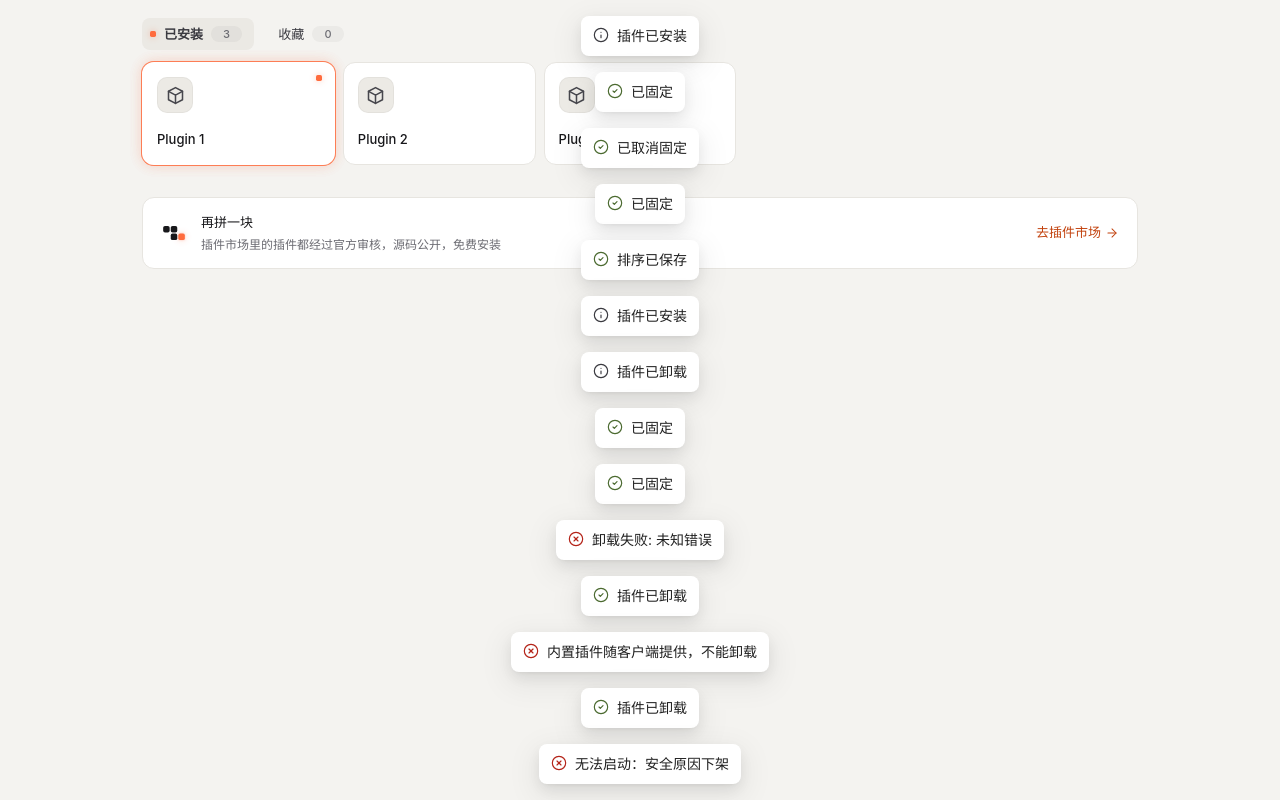
Test: MyPage Component › 工作台紧凑布局（常用磁贴 / 最近使用） › 右键磁贴弹出操作菜单，并提供「查看详情」
Right-click the button "Plugin 1" at (238, 113), box [142,62,335,165]
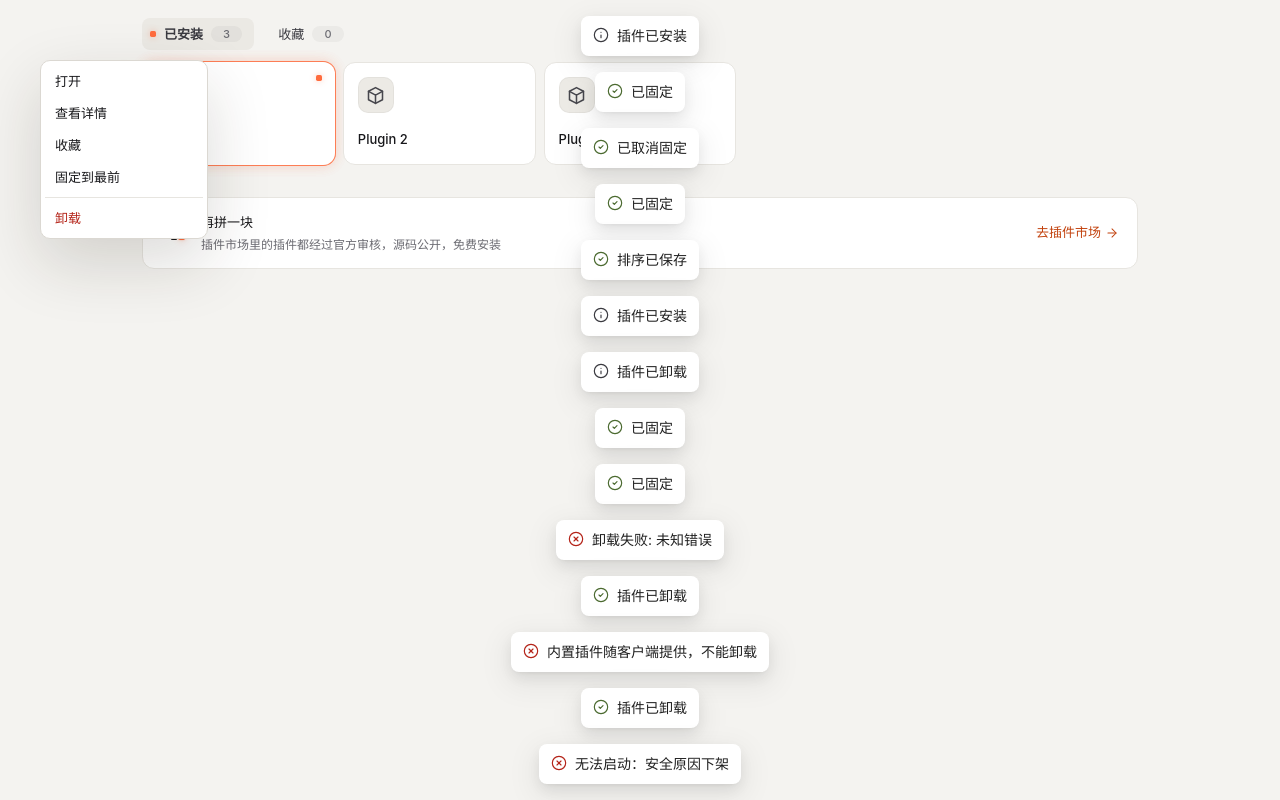
Expected: the element with class "context-menu" is shown, [40,60,208,239]
Expected: the element with class "context-menu" shows "查看详情", [55,105,107,121]
